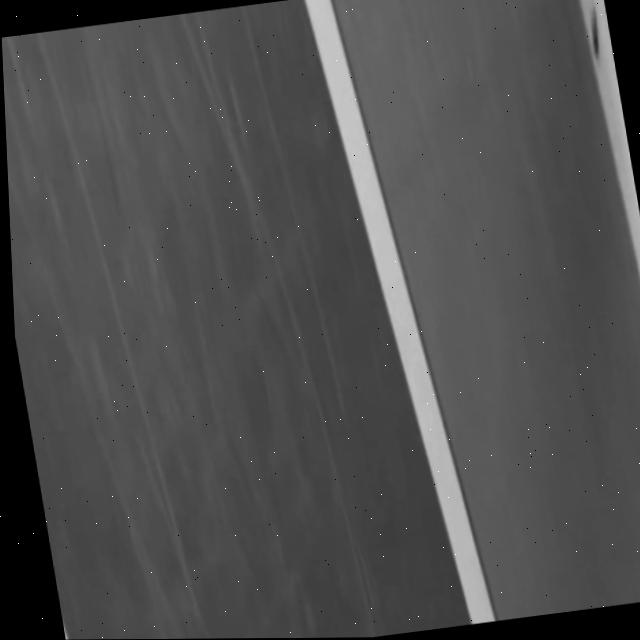right: (303, 0, 494, 624)
